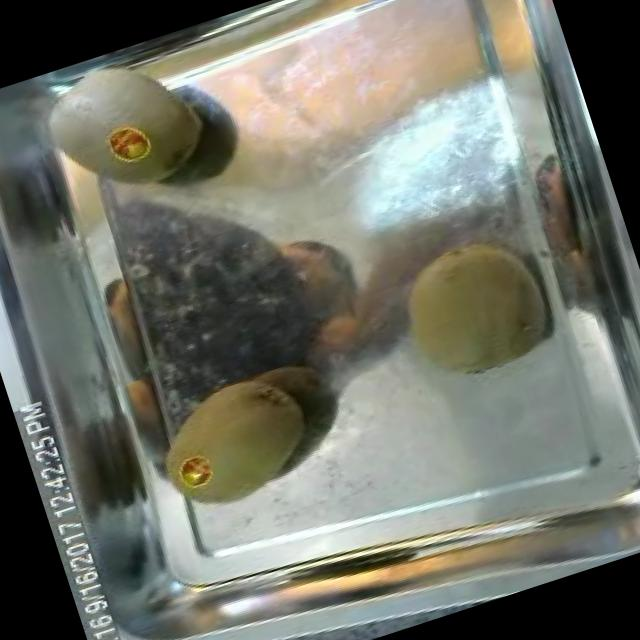Fruit: (13, 28, 233, 230), (372, 210, 574, 404), (140, 349, 338, 529)
